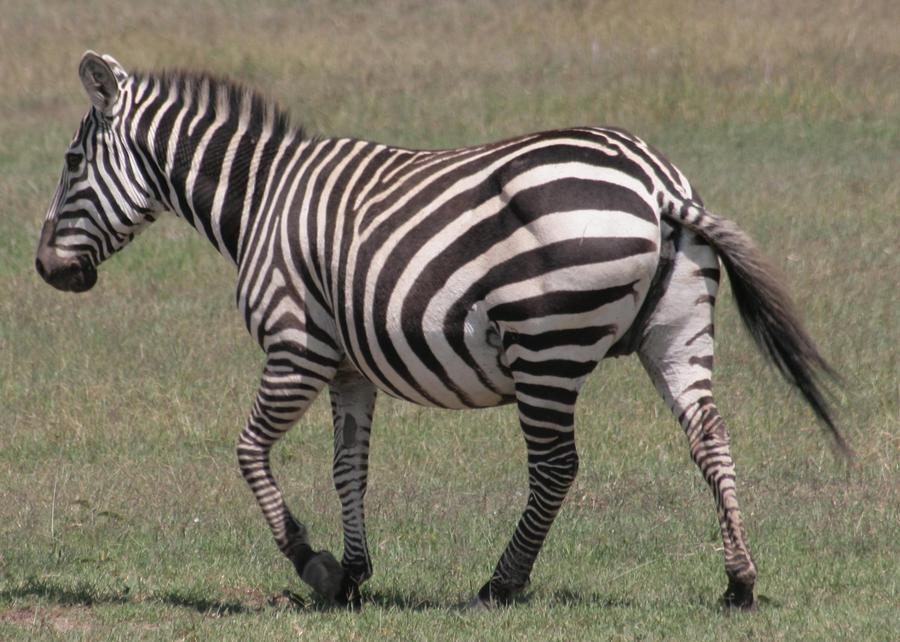zebra_plains: (251, 131, 611, 416)
